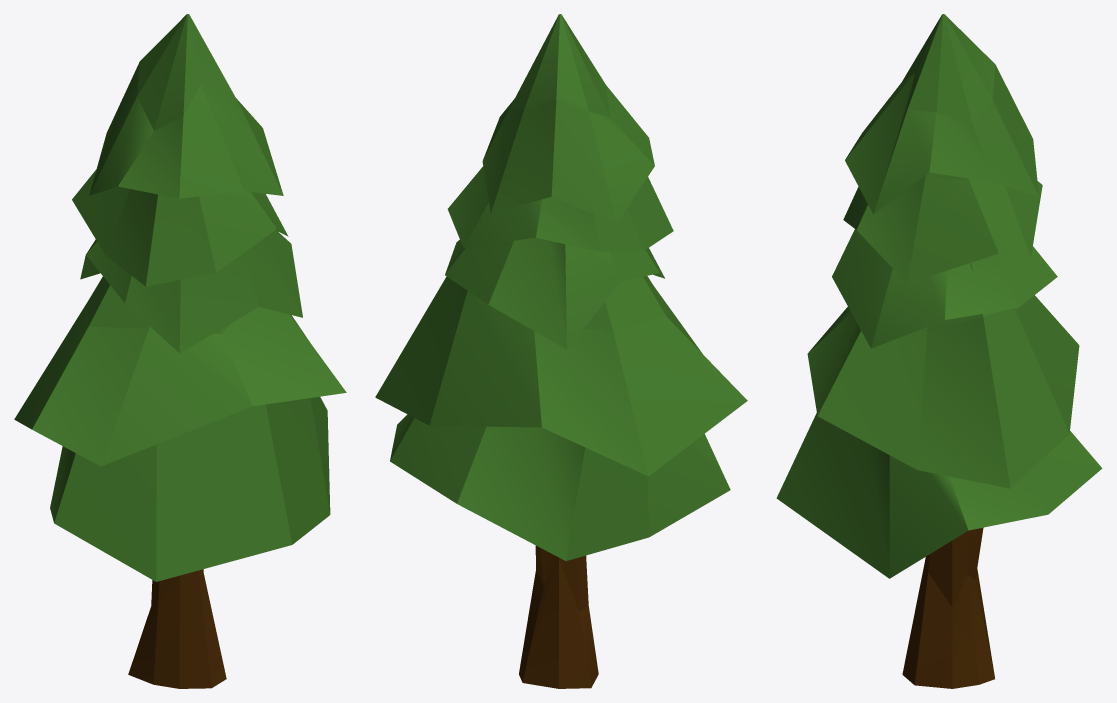
Rendered from TreePine.fbx.
3 renders of one model, left to right at view 1: azimuth 30°, elevation 25°; view 2: azimuth 150°, elevation 25°; view 3: azimuth 270°, elevation 25°, orthographic.
Visible parts, largest first — view 1: Pine5; view 2: Pine5; view 3: Pine5.
Boxes of the visible parts, left/top/right/bottom form: Pine5: left=14, top=14, right=346, bottom=688; Pine5: left=375, top=14, right=747, bottom=688; Pine5: left=776, top=14, right=1102, bottom=688.
Bounding box in the file's own units: 80.33 × 155 × 69.6.
